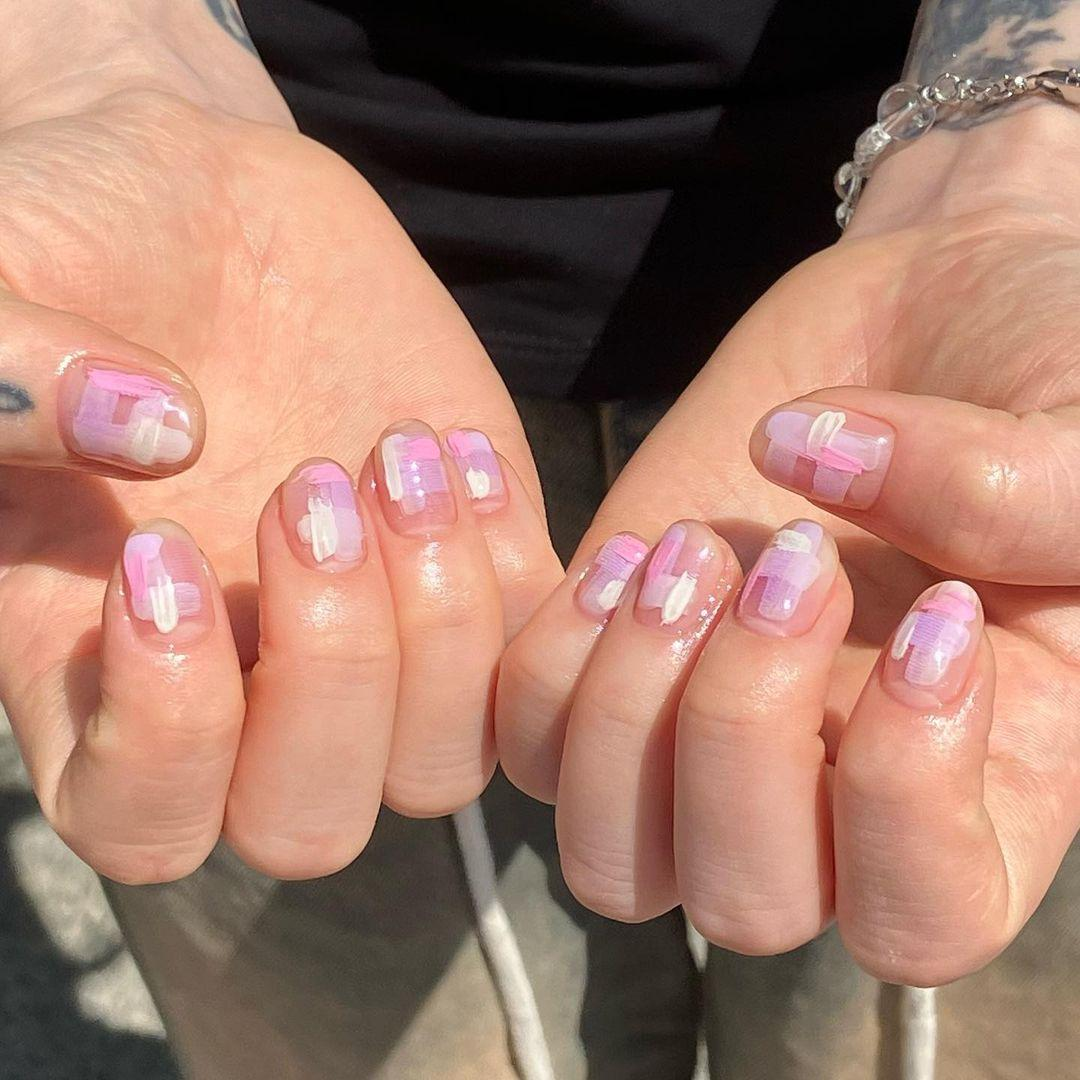nail: (55, 350, 205, 477), (747, 398, 896, 511), (878, 579, 983, 711), (733, 516, 838, 637), (119, 518, 215, 645), (278, 456, 368, 573), (373, 417, 458, 536), (635, 518, 725, 627), (572, 529, 650, 622), (445, 426, 509, 516)
